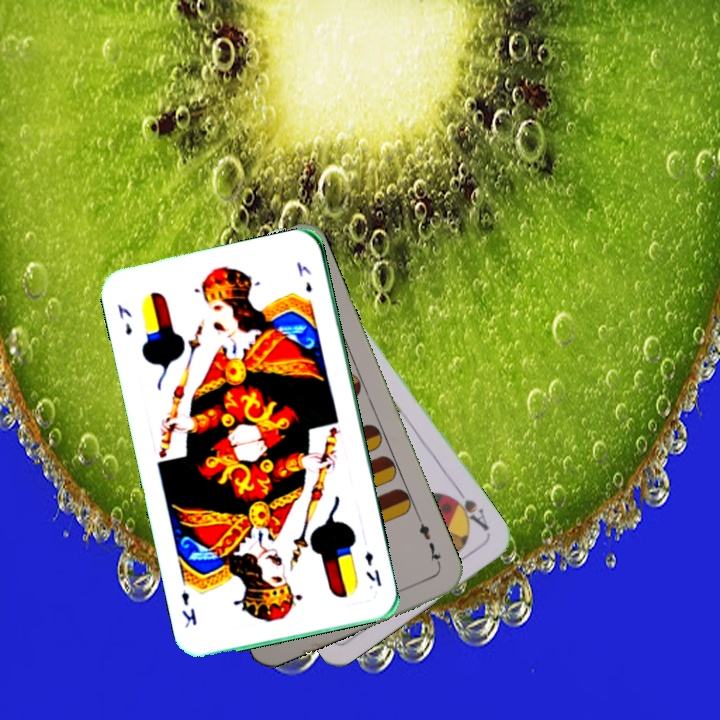E7: (414, 514, 444, 570)
EK: (360, 548, 384, 589), (114, 300, 135, 338)
SA: (444, 484, 492, 534)
